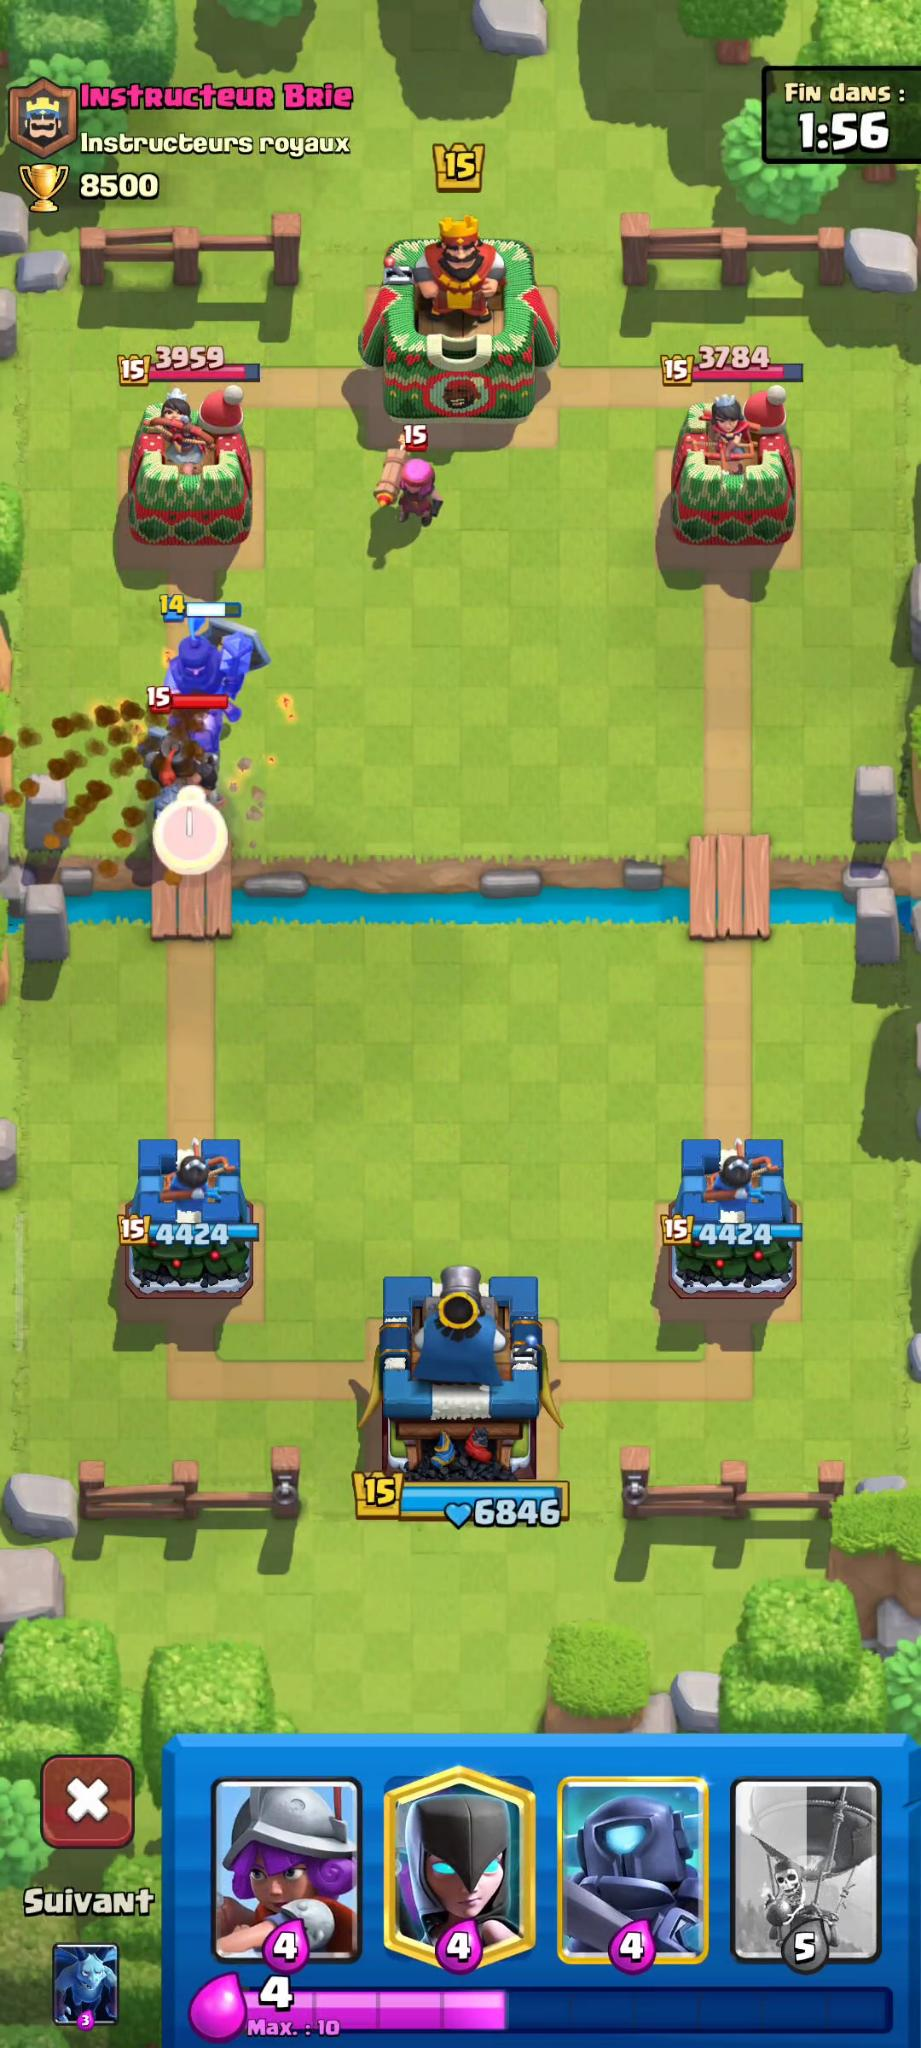geant: (154, 584, 278, 718)
